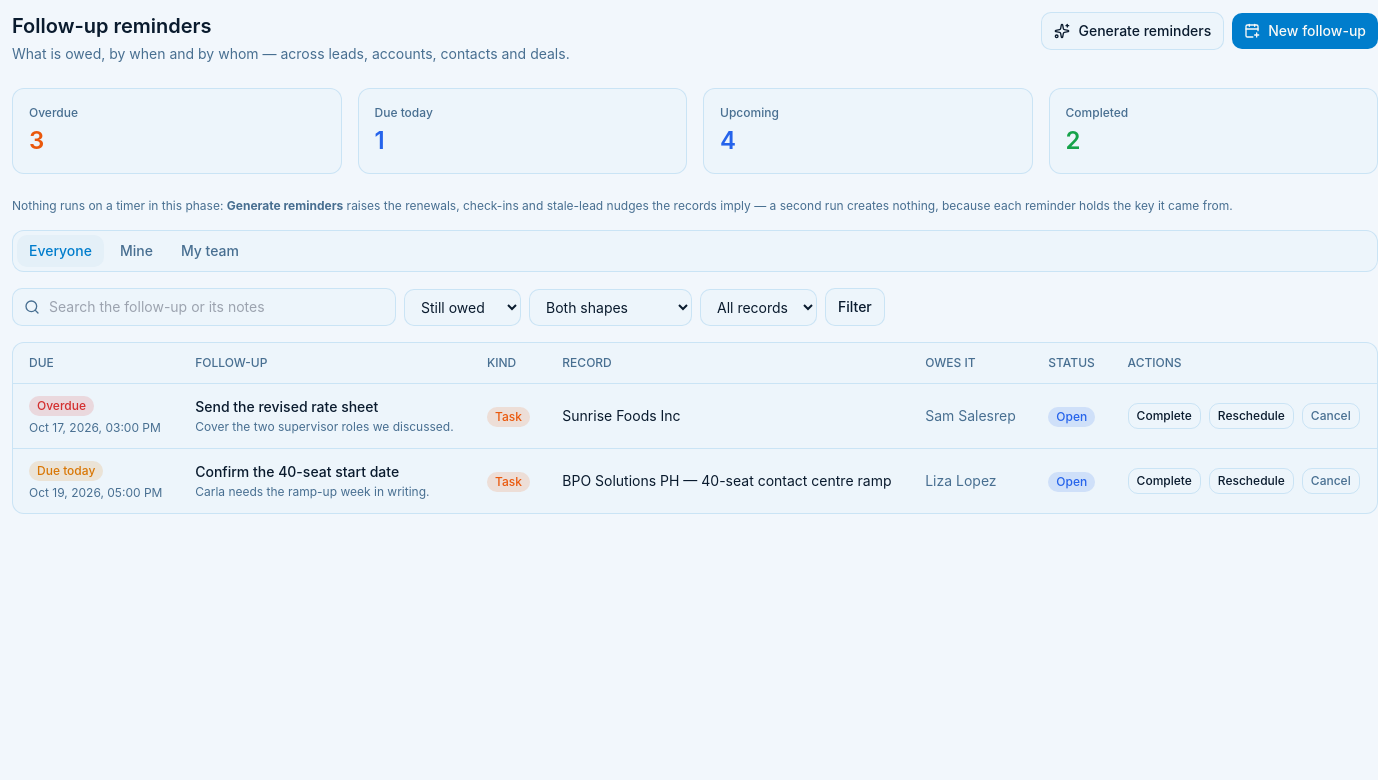
Test case: the follow-up worklist › surfaces a refused move instead of silently failing
Expected: the link "Send the revised rate sheet" is shown, [195,398,378,415]
Click the button "Complete" in the row of "Oct 17, 2026, 03:00 PM".
click(1164, 416)  # box [1128,403,1201,429]
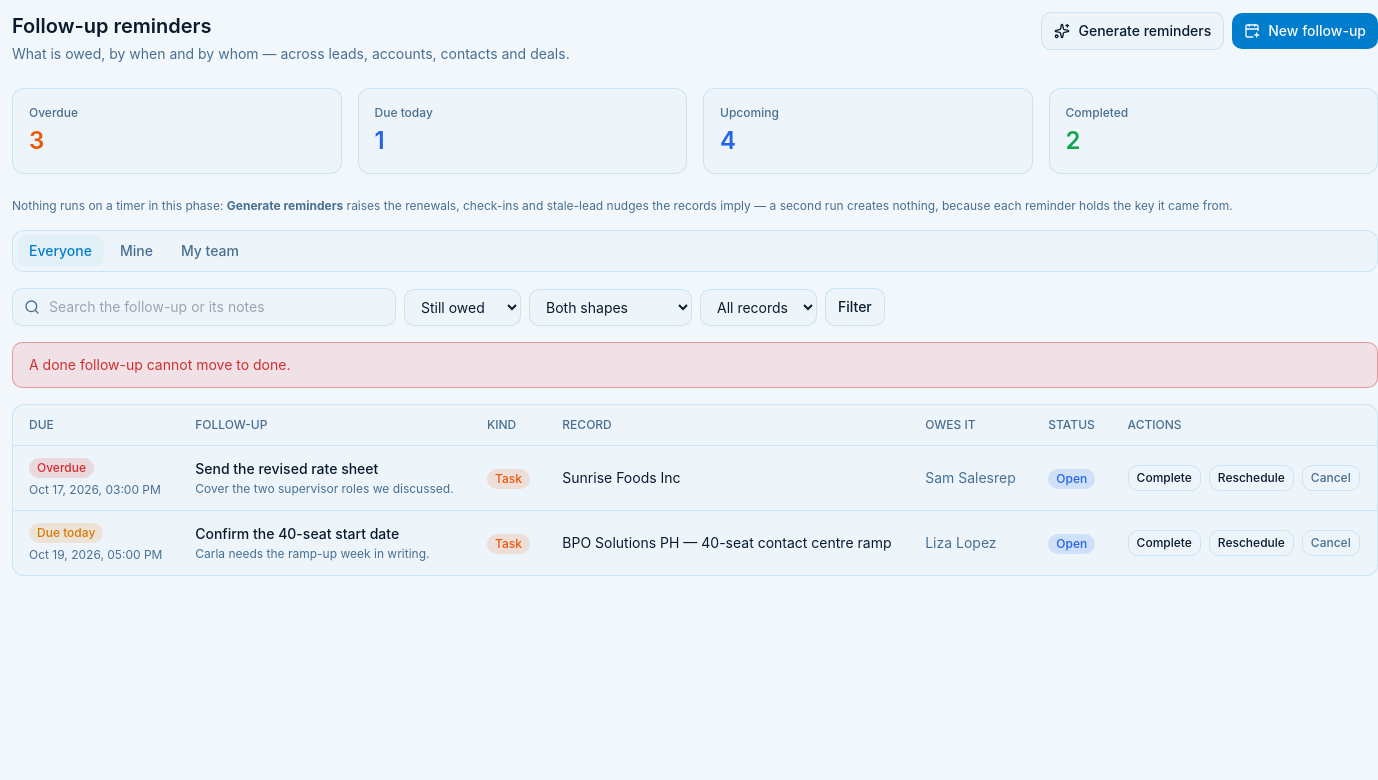
Expected: the text "A done follow-up cannot move to done." is shown, [29,356,290,373]
